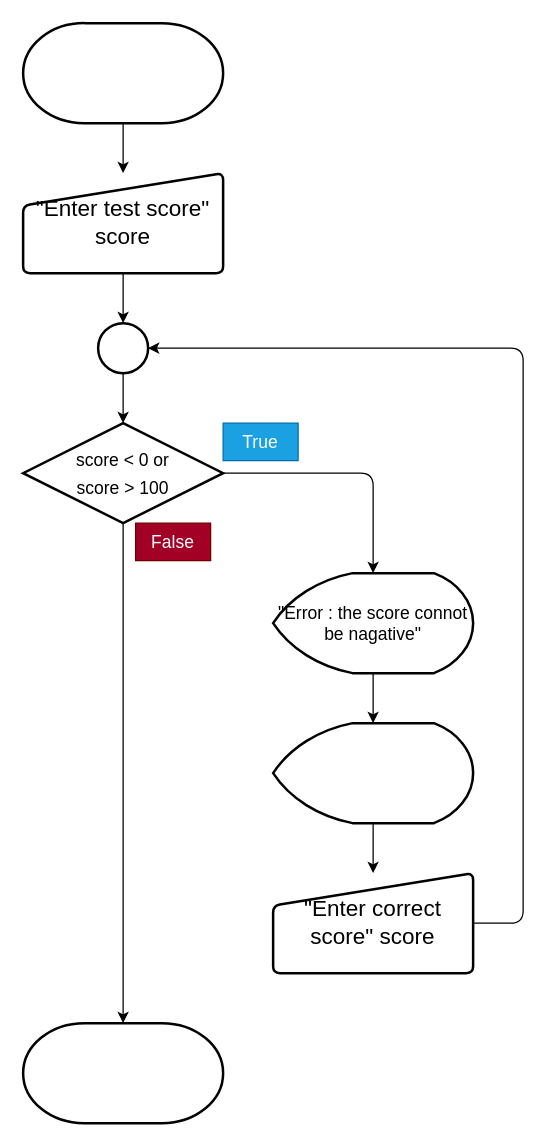
Some shapes in this 555 by 1145 pixel diagram are drawn without their labels. Each missing label, with the centre of its shape:
"or greater than 100": pixel 372 772
End: pixel 122 1072
Start: pixel 122 72
